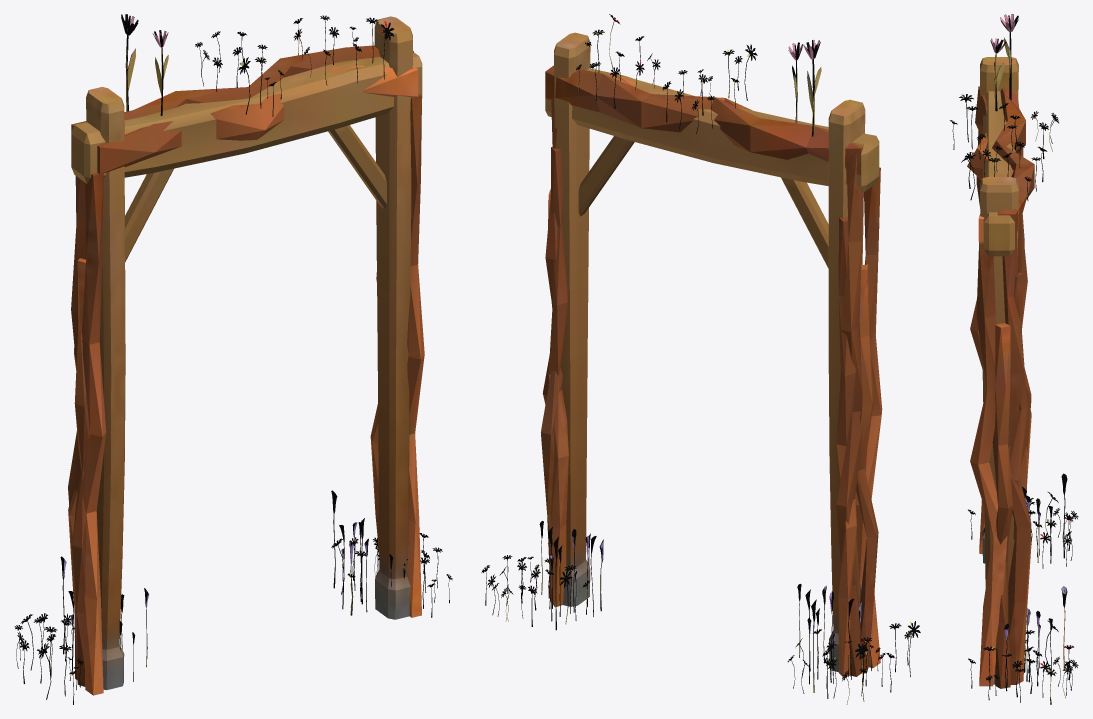
Rendered from arch_vines.glb.
The picture shows the model from 3 angles, left to right: view 1: azimuth 30°, elevation 25°; view 2: azimuth 150°, elevation 25°; view 3: azimuth 270°, elevation 25°; orthographic projection. The views are drawn at different scales.
Visible parts, largest first — view 1: arch_vines; view 2: arch_vines; view 3: arch_vines.
Boxes of the visible parts, bbox=[...] form: arch_vines: bbox=[14, 14, 452, 704]; arch_vines: bbox=[481, 14, 920, 704]; arch_vines: bbox=[950, 14, 1078, 704].
Bounding box in the file's own units: 1.45 × 2.14 × 0.45.
1 material, 1 textured.
